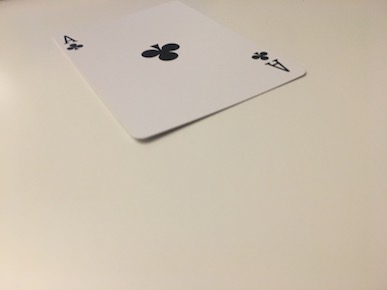AceOfClubs: (48, 1, 310, 144)
